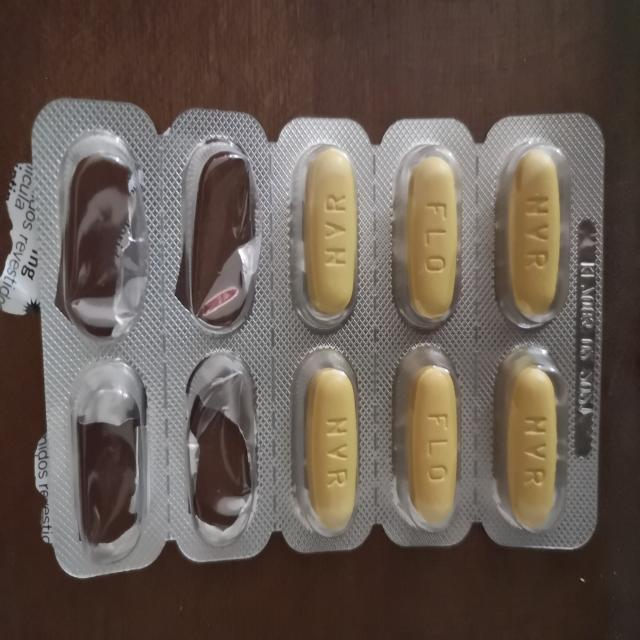Empty: (48, 129, 153, 338), (171, 344, 267, 546), (59, 356, 150, 564), (178, 133, 262, 334)
Pill: (287, 138, 365, 338), (393, 341, 472, 531), (291, 343, 366, 542), (391, 140, 465, 333), (498, 138, 568, 336), (496, 341, 567, 534)
